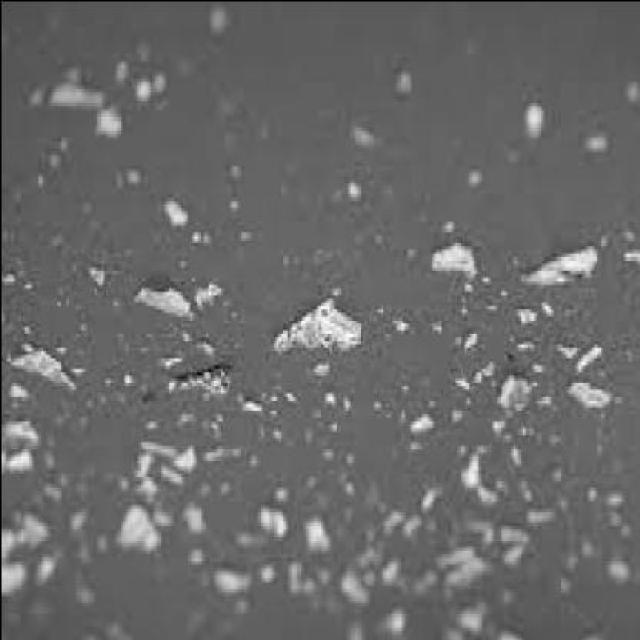GLASS: (267, 298, 356, 356), (521, 238, 594, 294), (156, 364, 227, 416), (8, 339, 70, 392), (126, 276, 191, 322), (426, 234, 489, 280), (44, 80, 116, 112), (436, 542, 482, 592), (112, 508, 153, 563), (448, 511, 501, 549), (0, 510, 45, 553), (492, 370, 528, 416), (0, 426, 35, 472), (566, 328, 600, 374), (298, 507, 328, 556), (447, 598, 488, 632), (0, 550, 26, 598), (568, 381, 602, 416), (202, 570, 240, 598), (522, 104, 546, 148), (331, 574, 358, 612), (187, 287, 221, 315), (193, 329, 225, 357), (200, 444, 242, 465), (258, 512, 282, 546), (126, 455, 154, 482), (500, 532, 522, 566), (457, 444, 472, 493), (23, 560, 46, 591), (142, 437, 175, 458), (406, 413, 428, 444), (82, 259, 103, 290), (374, 609, 398, 636), (95, 112, 118, 140), (63, 507, 86, 535), (70, 542, 93, 570), (158, 465, 182, 490), (202, 4, 224, 31), (161, 210, 184, 235), (7, 378, 28, 405), (72, 581, 93, 608), (191, 227, 214, 251), (91, 528, 107, 562), (377, 508, 395, 538), (146, 70, 159, 108), (605, 563, 624, 588), (596, 489, 621, 508), (579, 535, 598, 560), (317, 556, 335, 581), (398, 515, 414, 542), (184, 508, 198, 538), (524, 507, 547, 525), (158, 353, 174, 378), (512, 332, 528, 357), (358, 542, 377, 563), (621, 84, 637, 108), (126, 84, 142, 108), (533, 304, 549, 328), (468, 367, 486, 388), (552, 577, 570, 598), (580, 133, 595, 158), (449, 374, 468, 392), (172, 458, 188, 479), (377, 560, 389, 588), (610, 517, 628, 535), (268, 486, 282, 508), (184, 552, 198, 574), (254, 563, 268, 585), (621, 255, 637, 273), (512, 311, 528, 329), (414, 500, 426, 522), (145, 423, 163, 437), (282, 563, 290, 594), (472, 489, 485, 508), (151, 514, 167, 528), (298, 587, 310, 605), (493, 479, 502, 501), (617, 234, 631, 248), (133, 490, 147, 504), (541, 476, 554, 490), (311, 364, 324, 378), (554, 342, 563, 361), (335, 402, 347, 416), (317, 398, 331, 409), (520, 482, 526, 507), (237, 538, 249, 550), (325, 287, 338, 298), (109, 73, 122, 84), (458, 342, 471, 353), (361, 567, 370, 581), (582, 490, 590, 504), (240, 410, 254, 416), (566, 563, 572, 574)
